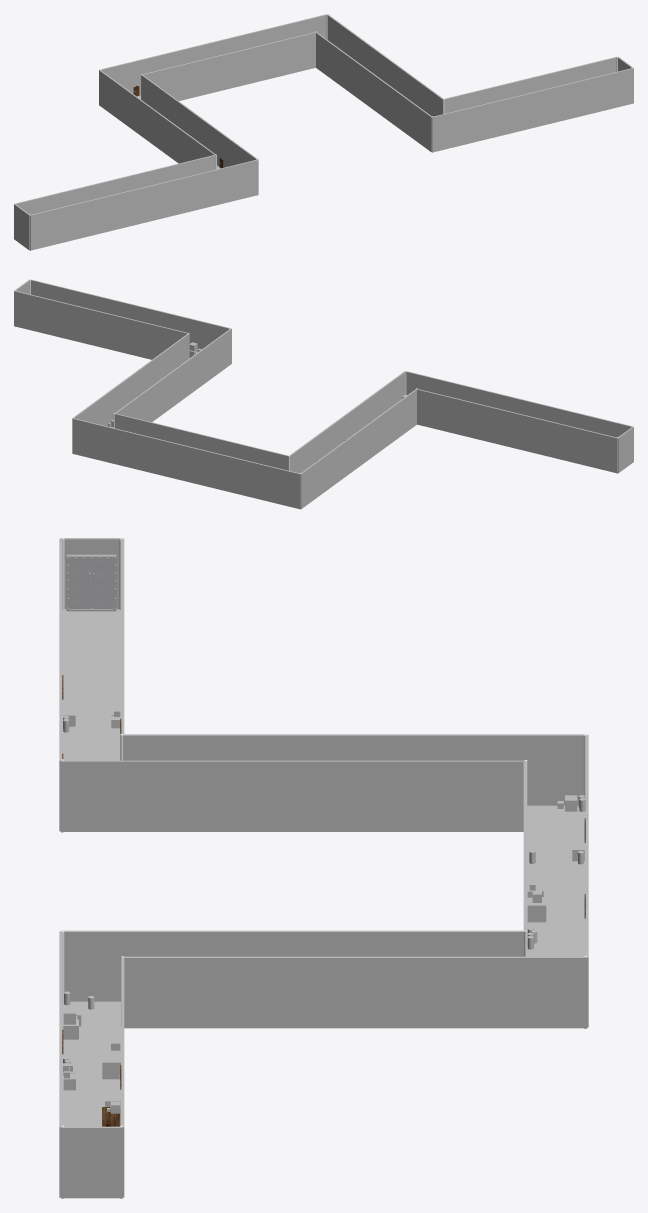
File: corridor.gltf
3 renders of one model, top to bottom at view 1: azimuth 30°, elevation 25°; view 2: azimuth 150°, elevation 25°; view 3: azimuth 270°, elevation 25°, orthographic. The views are drawn at different scales.
Parts seen in each view (by area): view 1: Wall_Left_5, Wall_Left_1, Wall_Left_3, Wall_Left_2, Wall_Right_3, Wall_Right_4, Wall_Right_2, Wall_Right_5, Wall_Left_4, Wall_Right_1, Wall_End_2; view 2: Wall_Right_3, Wall_Right_5, Wall_Right_1, Wall_Right_4, Wall_Left_2, Wall_Left_5, Wall_Left_1, Wall_Left_4, Wall_Right_2, Wall_Left_3, Wall_End_2; view 3: Wall_Right_2, Wall_Left_4, Floor, Wall_Left_2, Wall_Right_4, Wall_End_1, Door_2, Wall_End_2, Wall_Left_5, Wall_Right_3, Wall_Left_1.
Boxes of the visible parts, x1,y1,x2,y2 form: Wall_Left_5: [30, 160, 258, 250]; Wall_Left_1: [432, 68, 633, 152]; Wall_Left_3: [142, 32, 315, 100]; Wall_Left_2: [316, 32, 432, 152]; Wall_Right_3: [99, 14, 326, 95]; Wall_Right_4: [99, 70, 215, 163]; Wall_Right_2: [327, 14, 443, 116]; Wall_Right_5: [14, 155, 215, 214]; Wall_Left_4: [141, 74, 258, 194]; Wall_Right_1: [444, 57, 616, 113]; Wall_End_2: [14, 204, 29, 250]; Wall_Right_3: [72, 418, 300, 509]; Wall_Right_5: [417, 389, 617, 473]; Wall_Right_1: [14, 291, 188, 359]; Wall_Right_4: [300, 389, 416, 509]; Wall_Left_2: [115, 328, 231, 422]; Wall_Left_5: [406, 371, 633, 437]; Wall_Left_1: [30, 279, 231, 349]; Wall_Left_4: [289, 371, 405, 473]; Wall_Right_2: [72, 333, 189, 426]; Wall_Left_3: [115, 413, 288, 470]; Wall_End_2: [618, 427, 633, 473]; Wall_Right_2: [124, 956, 586, 1028]; Wall_Left_4: [61, 760, 523, 831]; Floor: [62, 609, 585, 1126]; Wall_Left_2: [61, 930, 524, 1001]; Wall_Right_4: [123, 734, 586, 805]; Wall_End_1: [61, 1126, 122, 1198]; Door_2: [66, 554, 116, 611]; Wall_End_2: [61, 538, 122, 609]; Wall_Left_5: [59, 538, 62, 831]; Wall_Right_3: [585, 735, 588, 1027]; Wall_Left_1: [59, 931, 62, 1197].
Bounding box in the file's own units: 451 × 25.9 × 171.
